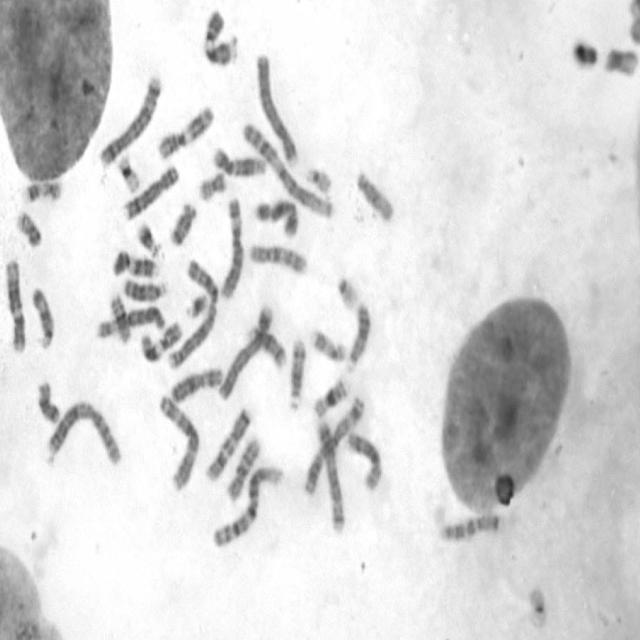A1: (238, 116, 335, 220), (209, 460, 285, 550)
A2: (164, 254, 220, 370), (42, 396, 123, 467)
A3: (301, 392, 366, 497), (156, 390, 201, 492)
B4: (216, 298, 275, 402), (254, 47, 300, 166)
B5: (95, 70, 163, 168), (314, 413, 347, 536)
C10: (225, 432, 262, 502), (246, 238, 309, 277)
C11: (154, 101, 216, 160), (140, 318, 183, 363)
C12: (1, 254, 27, 354), (209, 143, 267, 178)
C6: (93, 300, 166, 342), (217, 193, 245, 301)
C7: (203, 403, 252, 483), (438, 510, 502, 544)
C8: (121, 160, 180, 221), (343, 427, 382, 492)
C9: (200, 3, 238, 68), (109, 247, 160, 280)
D13: (344, 297, 372, 375), (120, 274, 168, 303)
D14: (244, 321, 288, 369), (285, 333, 307, 411)
D15: (353, 167, 396, 224), (29, 283, 56, 351)
E16: (311, 374, 349, 418), (107, 291, 135, 349)
E17: (307, 322, 348, 364), (21, 176, 64, 204)
E18: (166, 196, 198, 247), (34, 378, 62, 425)
F19: (114, 147, 142, 194), (526, 581, 550, 630)
F20: (195, 166, 229, 203), (13, 207, 42, 249)
G21: (134, 218, 161, 258), (183, 289, 209, 319)
G22: (303, 162, 333, 196), (334, 276, 361, 312)
X: (167, 363, 224, 404), (250, 194, 300, 238)
